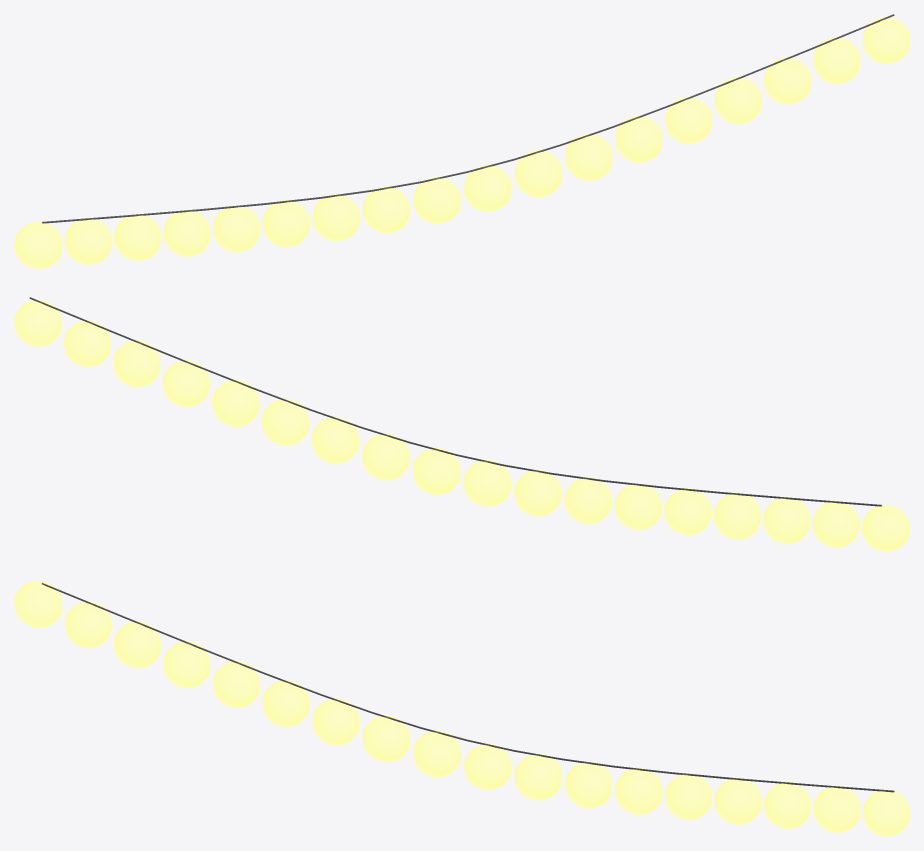
The model's file is paperlanterns.fbx.
3 renders of one model, top to bottom at view 1: azimuth 30°, elevation 25°; view 2: azimuth 150°, elevation 25°; view 3: azimuth 330°, elevation 25°, orthographic.
Visible parts, largest first — view 1: BezierCurve; view 2: BezierCurve; view 3: BezierCurve.
Part boxes in pixels (box(x1,y1,x2,y2)): BezierCurve: box(14, 14, 909, 268); BezierCurve: box(14, 297, 909, 551); BezierCurve: box(14, 580, 909, 836).
Bounding box in the file's own units: 1286 × 134 × 60.
